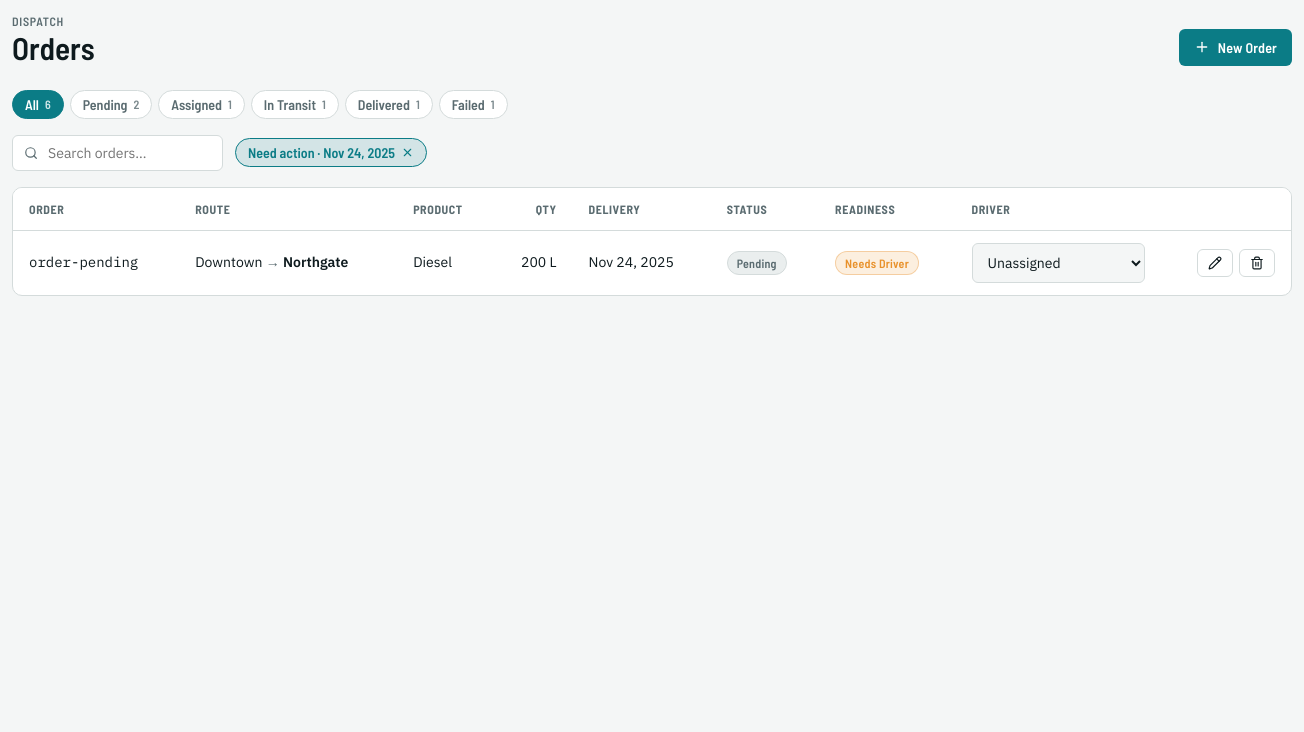
Scenario: OrdersPage › honours the ?readiness + ?date deep link and clears it
The width and height of the screenshot is (1304, 732).
Expected: the text "order-pending" is shown, [29,253,138,271]
Expected: the text "order-1" is not shown
What coordinates should you click on to do the following:
click the button "Need action · Nov 24, 2025"
I would click on:
 (331, 153)
Its box is [235,138,427,167].
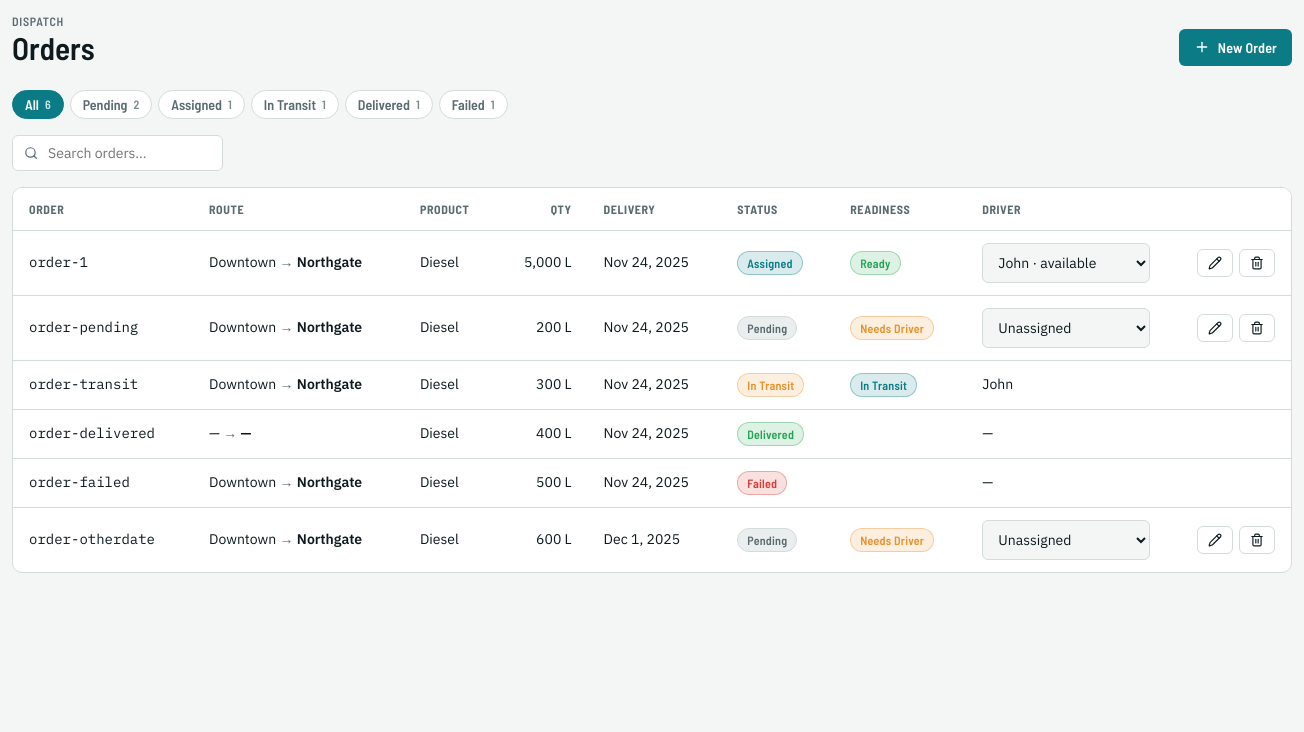
Now the text "order-1" is shown, box [29,253,88,271]
